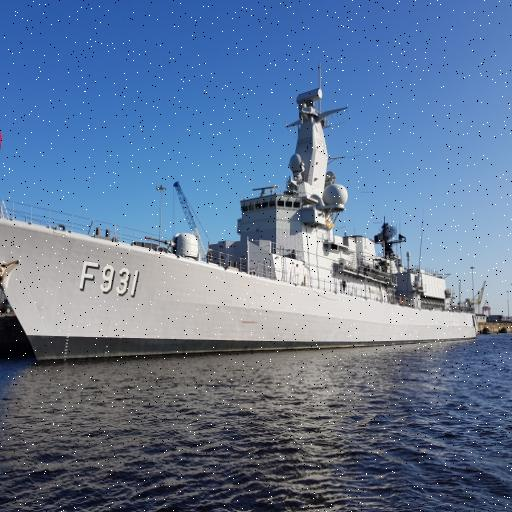Fragata: (1, 85, 485, 371)
